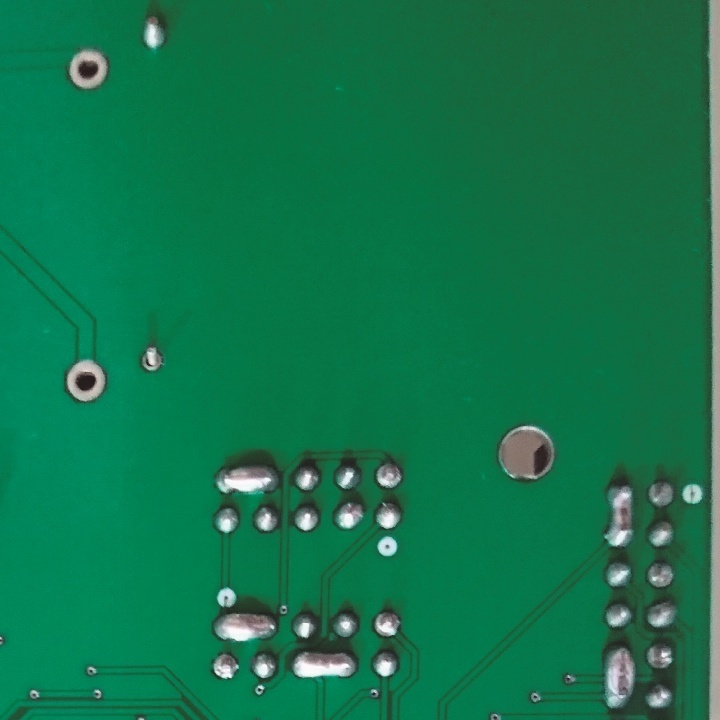F: (60, 46, 111, 95), (62, 356, 110, 408), (646, 638, 679, 672), (137, 343, 167, 380), (210, 652, 244, 683), (370, 609, 404, 640), (644, 559, 674, 591), (646, 478, 675, 508), (373, 463, 404, 490)
P: (209, 458, 284, 498), (604, 478, 636, 551), (289, 651, 361, 682), (602, 640, 634, 707), (212, 613, 281, 644)
